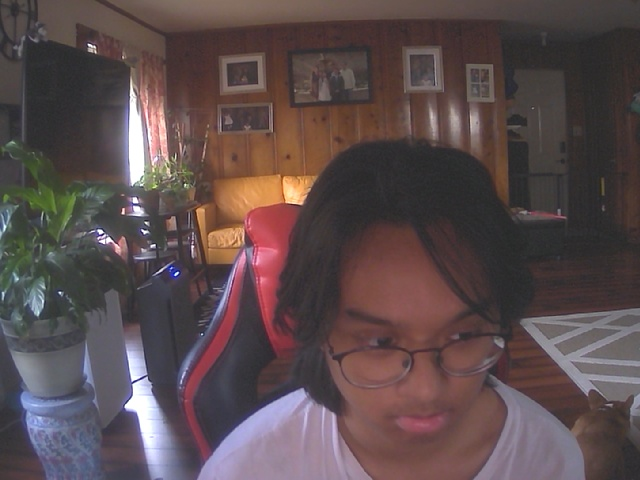sad: (310, 178, 509, 451)
